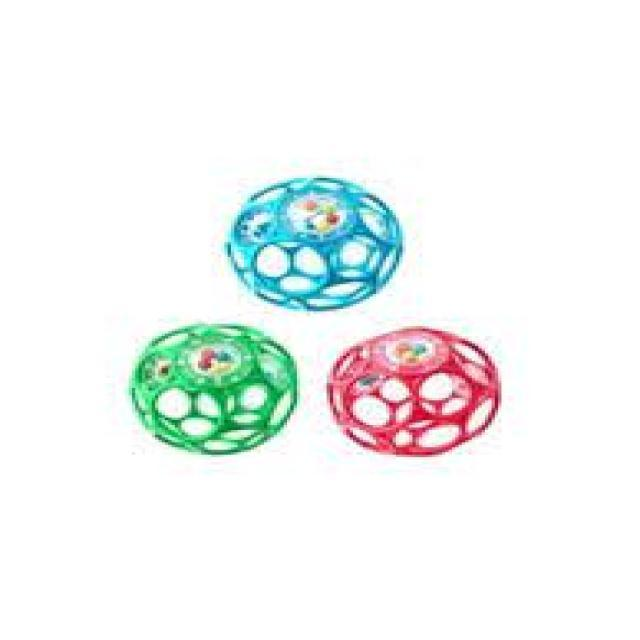hard-toy: (228, 179, 402, 309), (328, 328, 500, 455), (130, 324, 298, 454)
